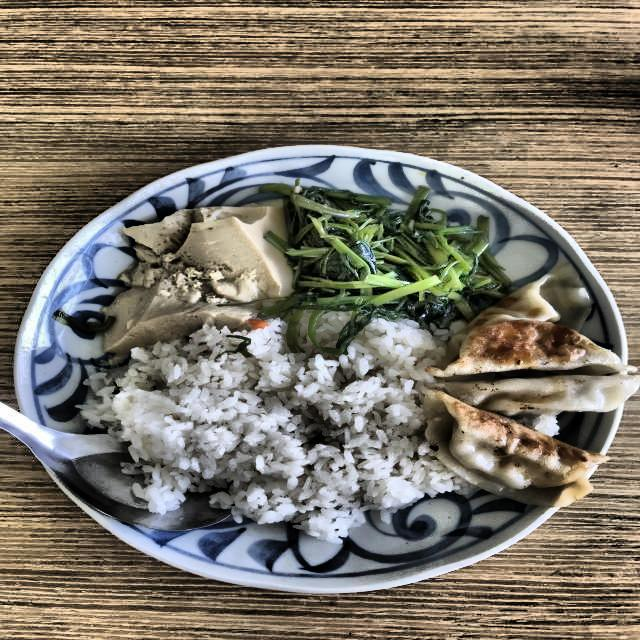Food: (128, 323, 432, 514), (430, 274, 631, 508), (284, 186, 510, 322)
